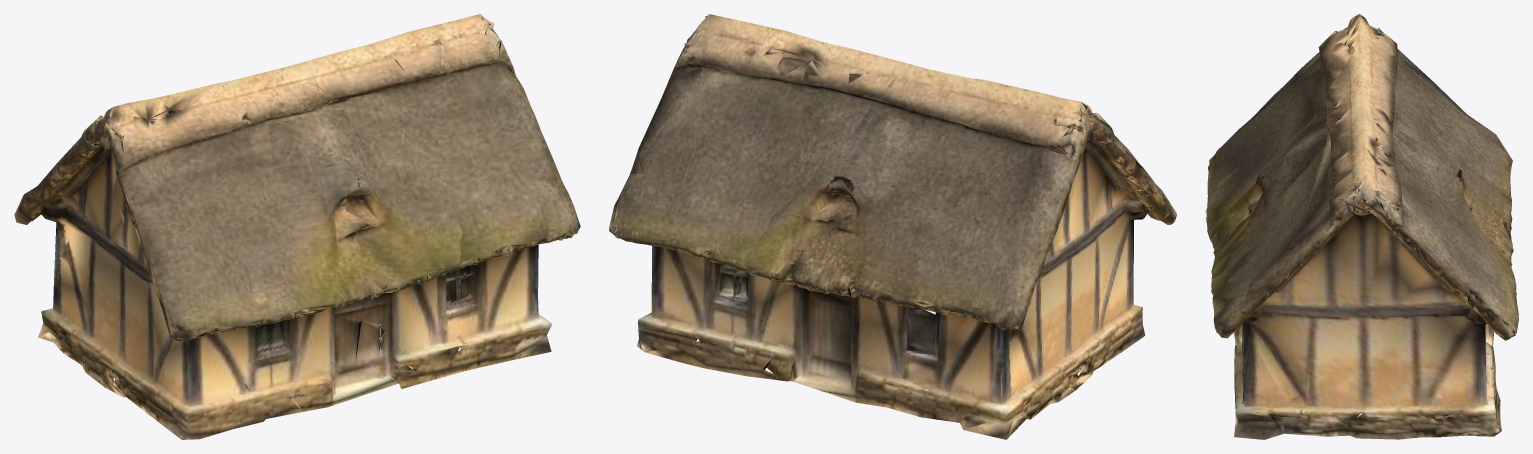
File: ga3_house2_t2_lod0.glb
The picture shows the model from 3 angles, left to right: view 1: azimuth 30°, elevation 25°; view 2: azimuth 150°, elevation 25°; view 3: azimuth 270°, elevation 25°; orthographic projection. The views are drawn at different scales.
Parts seen in each view (by area): view 1: ga3_house2_t2_lod0; view 2: ga3_house2_t2_lod0; view 3: ga3_house2_t2_lod0.
Boxes of the visible parts, x1,y1,x2,y2 form: ga3_house2_t2_lod0: (14, 14, 580, 439); ga3_house2_t2_lod0: (609, 14, 1176, 439); ga3_house2_t2_lod0: (1205, 14, 1518, 439).
Size of the model in its own units: 7.96 by 5.3 by 5.77.
1 material, 1 textured.
